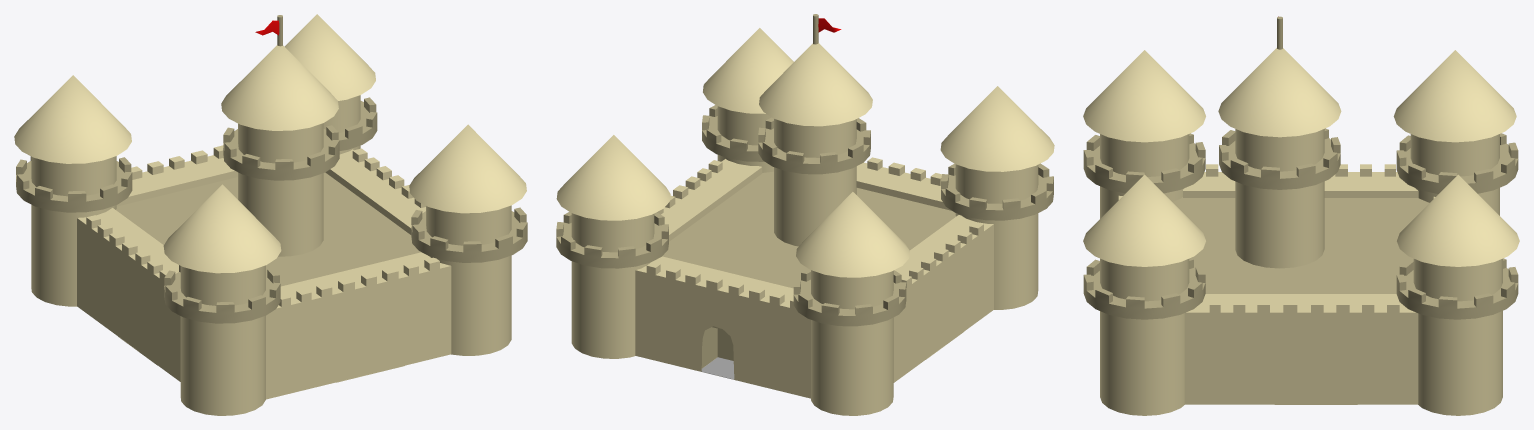
The model's file is Sand cas.fbx.
The picture shows the model from 3 angles, left to right: view 1: azimuth 30°, elevation 25°; view 2: azimuth 150°, elevation 25°; view 3: azimuth 270°, elevation 25°; orthographic projection. The views are drawn at different scales.
Parts seen in each view (by area): view 1: pCube14, pCylinder3, pCone3, pCone5, pCylinder4, pCube15, pCube17, pCone4, pCube16, pCube2, pCylinder5, pCylinder6 (+3 smaller); view 2: pCube2, pCylinder4, pCone4, pCone5, pCylinder3, pCube17, pCube15, pCone3, pCube16, pCylinder8, pCylinder5, pCylinder9 (+5 smaller); view 3: pCube16, pCone4, pCone3, pCone5, pCube17, pCylinder3, pCylinder4, pCube15, pCylinder9, pCylinder6, pCylinder7, pCylinder8 (+1 smaller).
Boxes of the visible parts, bbox=[...] form: pCube14: bbox=[266, 252, 451, 399]; pCylinder3: bbox=[163, 184, 281, 415]; pCone3: bbox=[409, 124, 526, 355]; pCone5: bbox=[221, 45, 338, 256]; pCylinder4: bbox=[14, 75, 131, 306]; pCube15: bbox=[77, 208, 180, 381]; pCube17: bbox=[116, 172, 420, 286]; pCone4: bbox=[284, 14, 375, 154]; pCube16: bbox=[325, 148, 425, 234]; pCube2: bbox=[116, 145, 237, 206]; pCylinder5: bbox=[164, 265, 280, 323]; pCylinder6: bbox=[411, 207, 527, 262]; pCube2: bbox=[635, 256, 810, 398]; pCylinder4: bbox=[796, 192, 909, 415]; pCone4: bbox=[556, 135, 670, 358]; pCone5: bbox=[759, 43, 872, 246]; pCylinder3: bbox=[940, 86, 1054, 309]; pCube17: bbox=[662, 171, 955, 288]; pCube15: bbox=[893, 215, 993, 382]; pCone3: bbox=[703, 28, 793, 172]; pCube16: bbox=[657, 159, 762, 241]; pCylinder8: bbox=[793, 269, 906, 326]; pCylinder5: bbox=[941, 163, 1053, 220]; pCylinder9: bbox=[758, 117, 870, 174]; pCube16: bbox=[1184, 294, 1418, 404]; pCone4: bbox=[1397, 174, 1519, 415]; pCone3: bbox=[1083, 174, 1205, 415]; pCone5: bbox=[1218, 48, 1341, 268]; pCube17: bbox=[1172, 197, 1429, 293]; pCylinder3: bbox=[1083, 50, 1205, 218]; pCylinder4: bbox=[1393, 50, 1516, 215]; pCube15: bbox=[1183, 164, 1418, 197]; pCylinder9: bbox=[1219, 128, 1340, 189]; pCylinder6: bbox=[1083, 258, 1205, 319]; pCylinder7: bbox=[1396, 258, 1518, 319]; pCylinder8: bbox=[1396, 133, 1518, 193].
Bounding box in the file's own units: 9.38 × 7.83 × 9.78.
